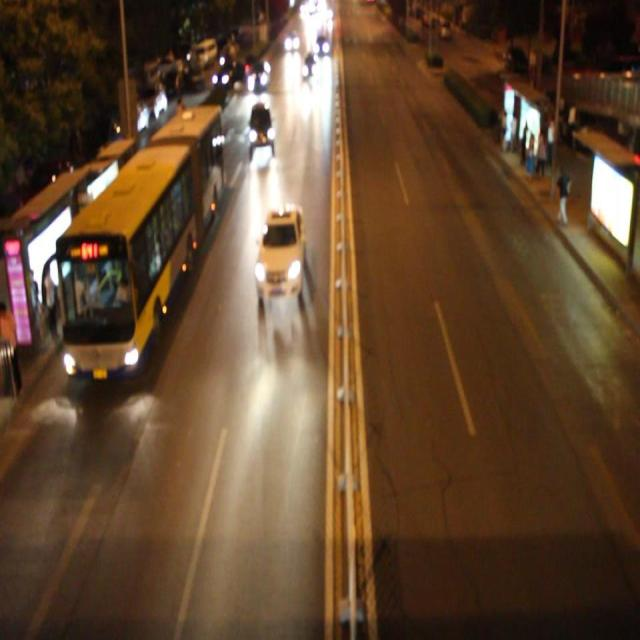car: (255, 204, 305, 295), (246, 59, 271, 94), (300, 51, 322, 84)
truck: (248, 100, 275, 149)
van: (54, 102, 219, 376)
